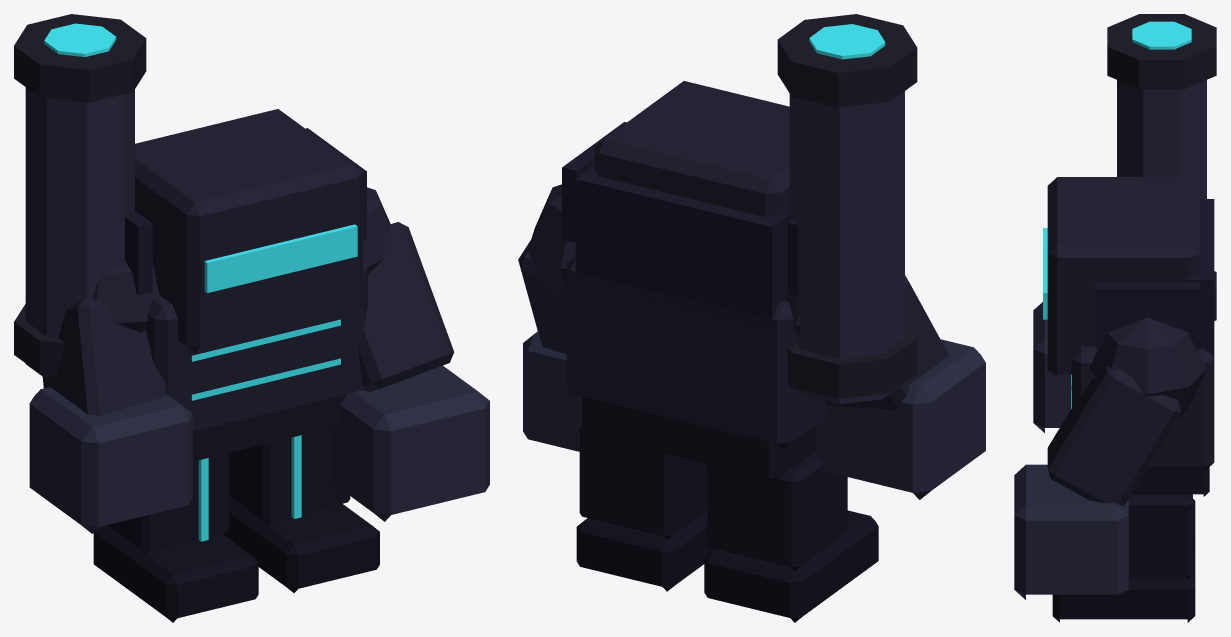
File: r8_mini_neon_enforcer.glb
The picture shows the model from 3 angles, left to right: view 1: azimuth 30°, elevation 25°; view 2: azimuth 150°, elevation 25°; view 3: azimuth 270°, elevation 25°; orthographic projection. The views are drawn at different scales.
Parts seen in each view (by area): view 1: r8_mini_neon_enforcer_mesh; view 2: r8_mini_neon_enforcer_mesh; view 3: r8_mini_neon_enforcer_mesh.
Part boxes in pixels (x1,y1,x2,y2): r8_mini_neon_enforcer_mesh: (14, 14, 489, 622); r8_mini_neon_enforcer_mesh: (518, 14, 985, 622); r8_mini_neon_enforcer_mesh: (1014, 14, 1216, 622).
Bounding box in the file's own units: 3.18 × 4.2 × 1.58.
1 material, 1 textured.
